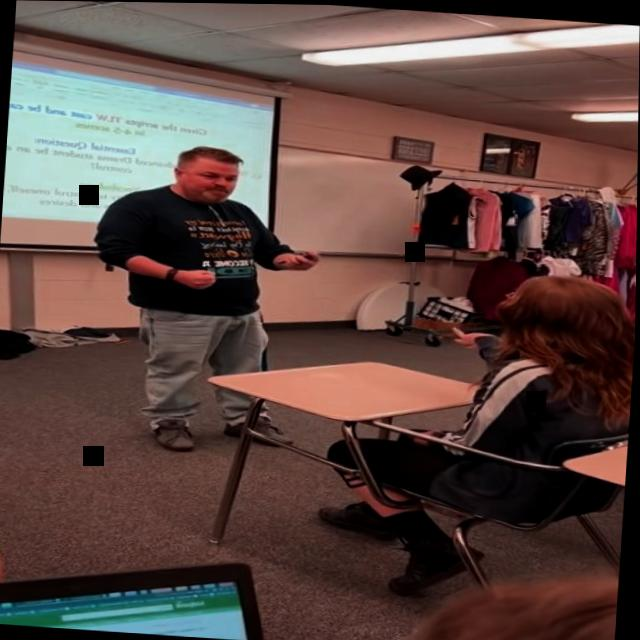NO-Mask: (175, 151, 240, 203)
